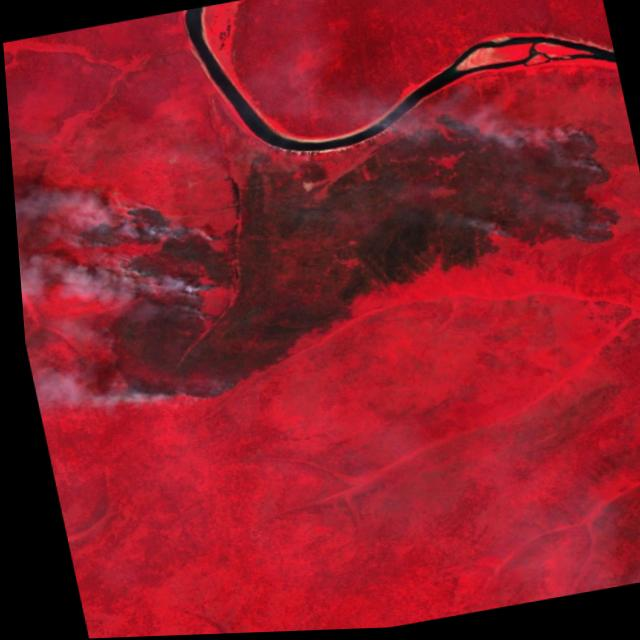fire: (41, 79, 640, 428)
